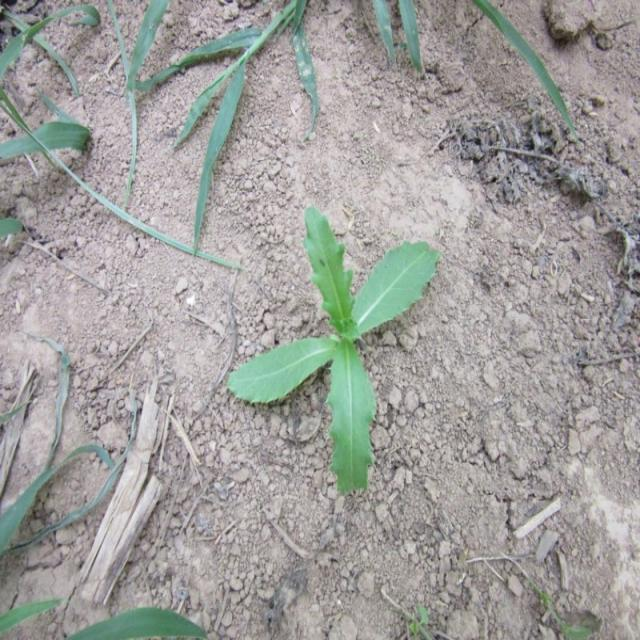cs: (223, 203, 441, 505)
